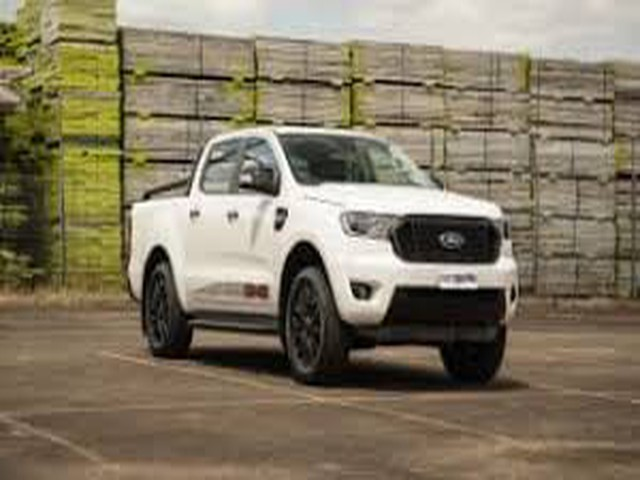Vehicle: (126, 121, 524, 389)
